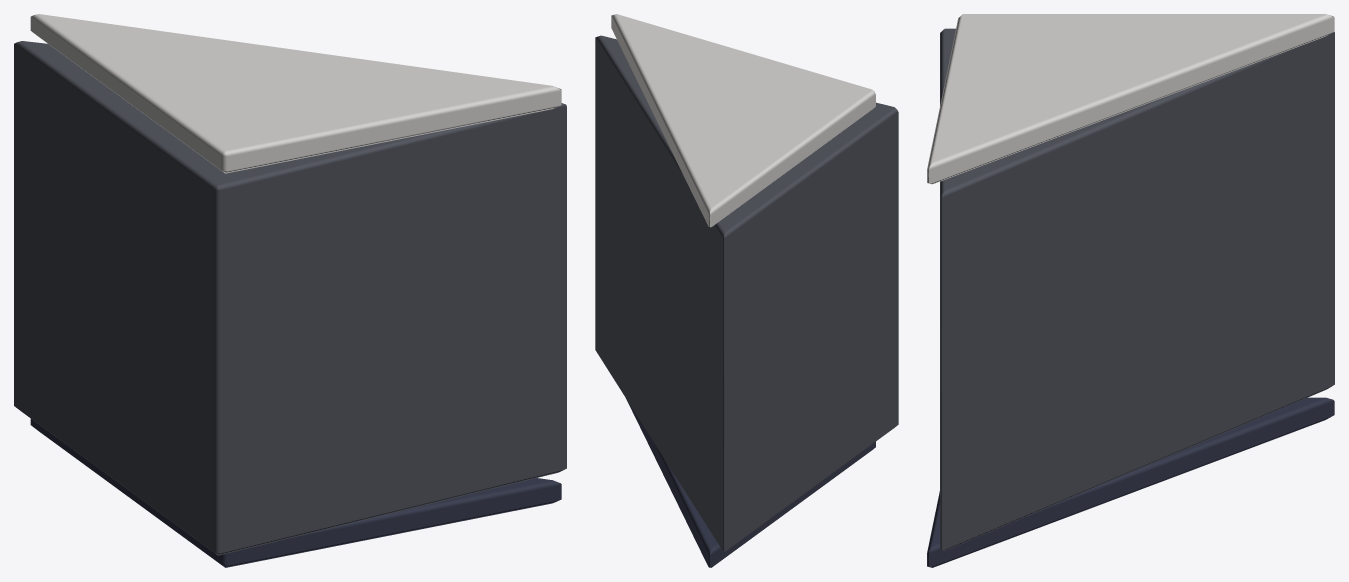
File: hull.slope1.wing.glb
The picture shows the model from 3 angles, left to right: view 1: azimuth 30°, elevation 25°; view 2: azimuth 150°, elevation 25°; view 3: azimuth 270°, elevation 25°; orthographic projection. The views are drawn at different scales.
Visible parts, largest first — view 1: hull.slope1.wing; view 2: hull.slope1.wing; view 3: hull.slope1.wing.
Boxes of the visible parts, x1,y1,x2,y2 form: hull.slope1.wing: (14, 14, 566, 567); hull.slope1.wing: (595, 14, 898, 567); hull.slope1.wing: (927, 14, 1334, 567).
Size of the model in its own units: 0.9915 by 1.12 by 1.02.
